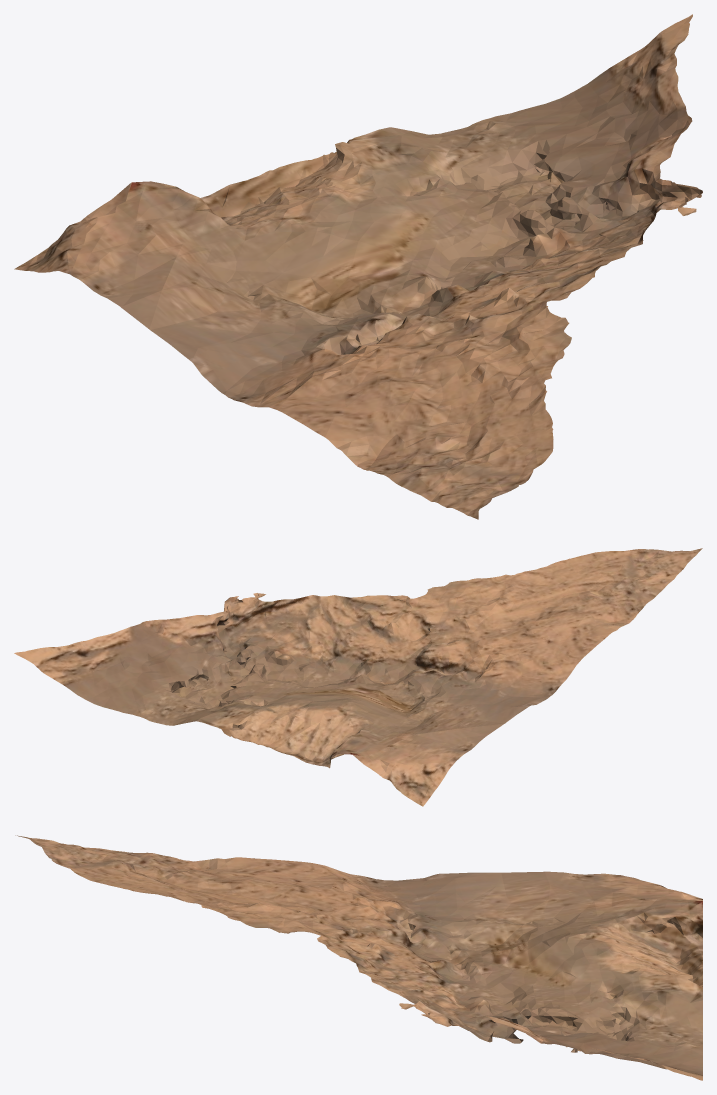
3 views of the same model, one above another, from view 1: azimuth 30°, elevation 25°; view 2: azimuth 150°, elevation 25°; view 3: azimuth 270°, elevation 25° (orthographic). The views are drawn at different scales.
Size of the model in its own units: 1.53 by 0.1923 by 1.81.
Materials: 1 (1 with a texture image).
